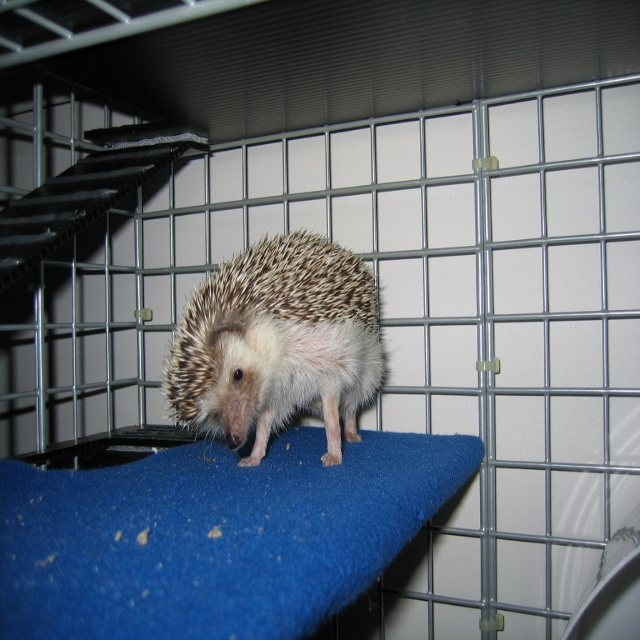Hedgehog: (162, 226, 386, 468)
